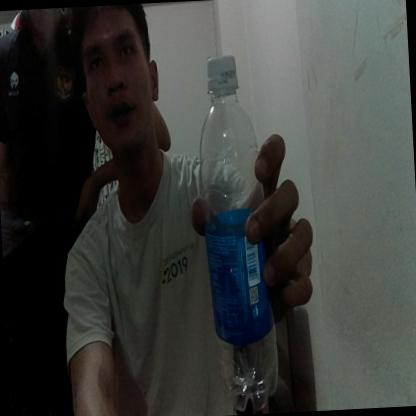plastic_bottles: (192, 47, 282, 416)
